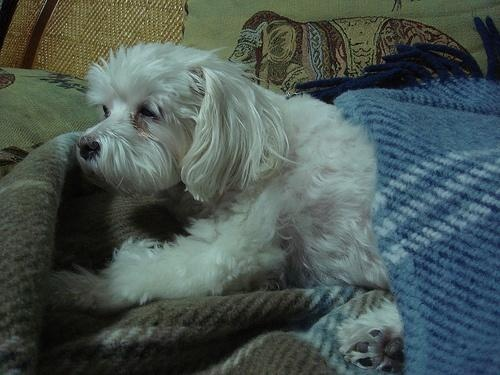dog: (50, 42, 405, 374)
